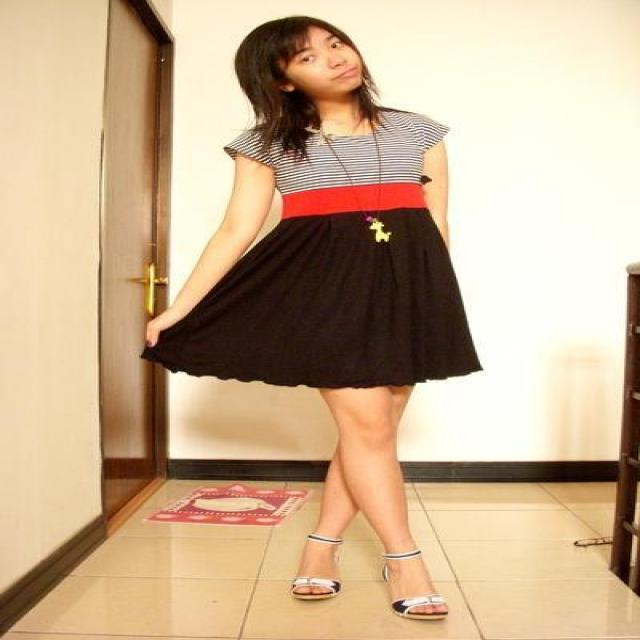shirt: (224, 111, 448, 191)
shoe: (288, 584, 446, 621)
skirt: (141, 208, 478, 388)
